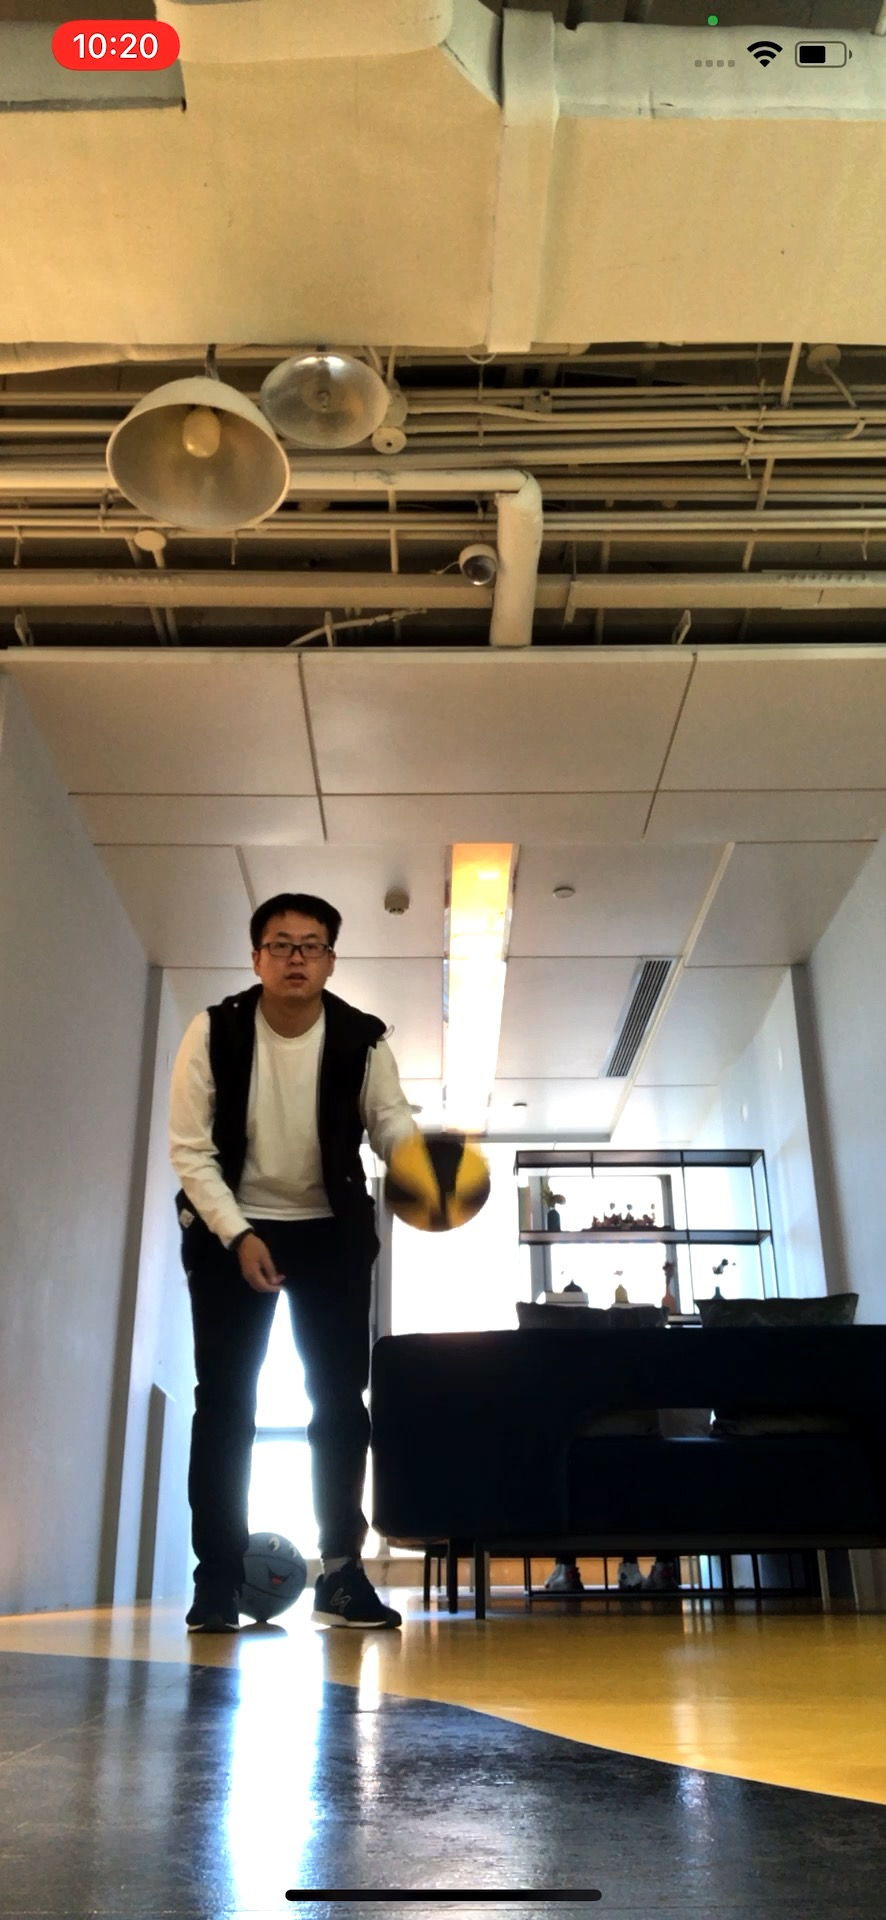ball: (390, 1129, 492, 1236), (233, 1529, 303, 1619)
